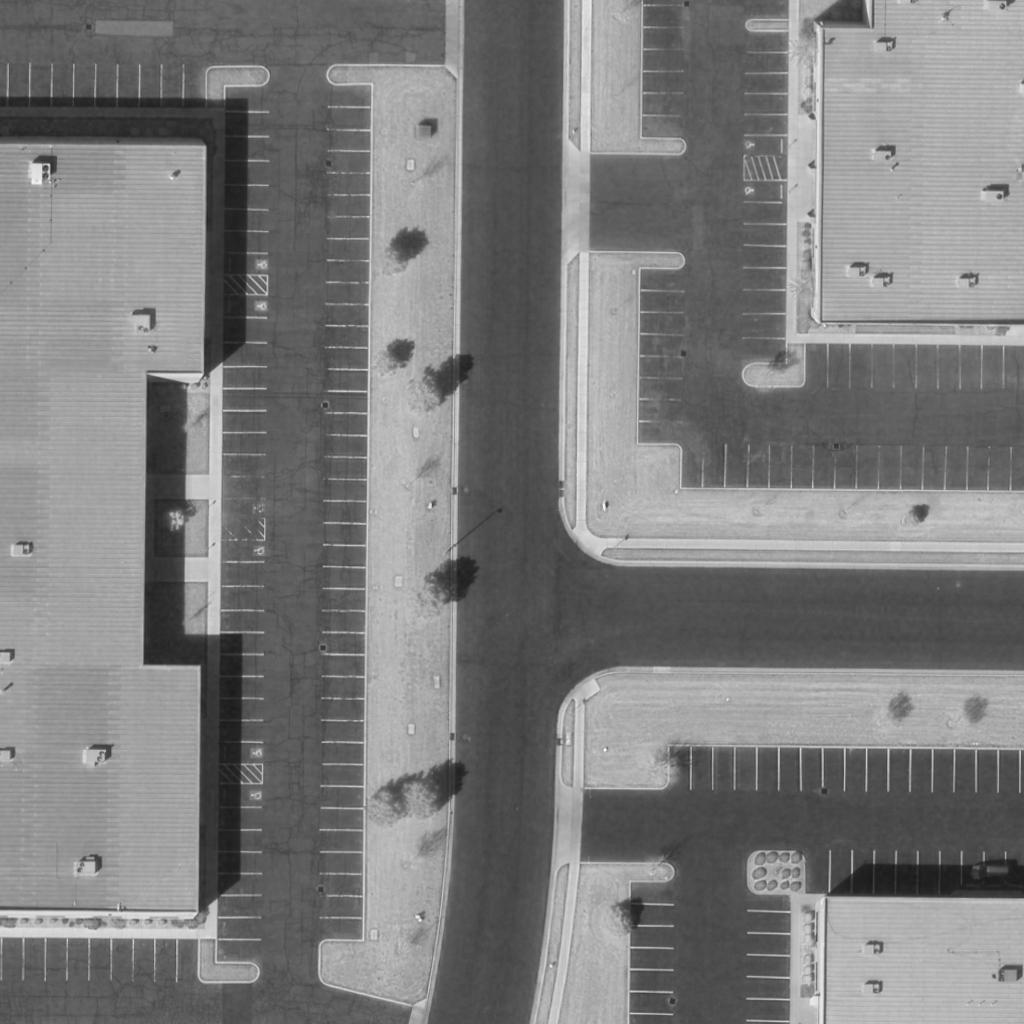vehicle: (970, 865, 1010, 881)
